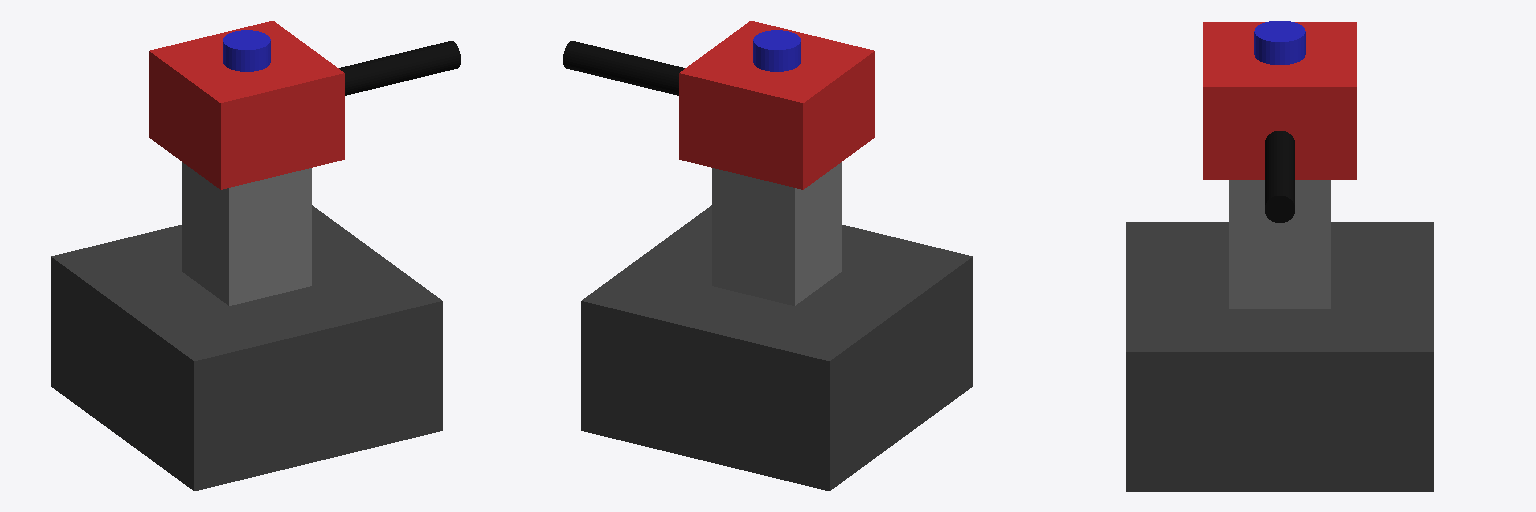
robot.urdf — sentry_robot:
<?xml version="1.0"?>
<robot name="sentry_robot">
  
  <!-- 底盘 600x600x300mm -->
  <link name="base_link">
    <visual>
      <origin xyz="0 0 0.15" rpy="0 0 0"/>
      <geometry>
        <box size="0.6 0.6 0.3"/>
      </geometry>
      <material name="dark_gray">
        <color rgba="0.3 0.3 0.3 1"/>
      </material>
    </visual>
    <collision>
      <origin xyz="0 0 0.15" rpy="0 0 0"/>
      <geometry>
        <box size="0.6 0.6 0.3"/>
      </geometry>
    </collision>
  </link>

  <!-- 云台支架 200x200x300mm -->
  <link name="turret_base">
    <visual>
      <origin xyz="0 0 0.15" rpy="0 0 0"/>
      <geometry>
        <box size="0.2 0.2 0.3"/>
      </geometry>
      <material name="gray">
        <color rgba="0.5 0.5 0.5 1"/>
      </material>
    </visual>
  </link>

  <joint name="base_to_turret" type="fixed">
    <parent link="base_link"/>
    <child link="turret_base"/>
    <origin xyz="0 0 0.3" rpy="0 0 0"/>
  </joint>

  <!-- 云台头部 300x300x200mm -->
  <link name="turret_head">
    <visual>
      <origin xyz="0 0 0.1" rpy="0 0 0"/>
      <geometry>
        <box size="0.3 0.3 0.2"/>
      </geometry>
      <material name="red">
        <color rgba="0.8 0.2 0.2 1"/>
      </material>
    </visual>
  </link>

  <joint name="turret_to_head" type="fixed">
    <parent link="turret_base"/>
    <child link="turret_head"/>
    <origin xyz="0 0 0.3" rpy="0 0 0"/>
  </joint>

  <!-- 枪管 -->
  <link name="barrel">
    <visual>
      <origin xyz="0.2 0 0" rpy="0 1.5708 0"/>
      <geometry>
        <cylinder radius="0.03" length="0.3"/>
      </geometry>
      <material name="black">
        <color rgba="0.1 0.1 0.1 1"/>
      </material>
    </visual>
  </link>

  <joint name="head_to_barrel" type="fixed">
    <parent link="turret_head"/>
    <child link="barrel"/>
    <origin xyz="0.15 0 0.1" rpy="0 0 0"/>
  </joint>

  <!-- 雷达 (顶部) -->
  <link name="lidar_link">
    <visual>
      <origin xyz="0 0 0.025" rpy="0 0 0"/>
      <geometry>
        <cylinder radius="0.05" length="0.05"/>
      </geometry>
      <material name="blue">
        <color rgba="0.2 0.2 0.8 1"/>
      </material>
    </visual>
  </link>

  <joint name="head_to_lidar" type="fixed">
    <parent link="turret_head"/>
    <child link="lidar_link"/>
    <origin xyz="0 0 0.2" rpy="0 0 0"/>
  </joint>

  <!-- 四个轮子 -->
  <link name="wheel_fl">
    <visual>
      <geometry>
        <cylinder radius="0.08" length="0.05"/>
      </geometry>
      <material name="black"/>
    </visual>
  </link>
  <joint name="base_to_wheel_fl" type="fixed">
    <parent link="base_link"/>
    <child link="wheel_fl"/>
    <origin xyz="0.22 0.25 0.08" rpy="1.5708 0 0"/>
  </joint>

  <link name="wheel_fr">
    <visual>
      <geometry>
        <cylinder radius="0.08" length="0.05"/>
      </geometry>
      <material name="black"/>
    </visual>
  </link>
  <joint name="base_to_wheel_fr" type="fixed">
    <parent link="base_link"/>
    <child link="wheel_fr"/>
    <origin xyz="0.22 -0.25 0.08" rpy="1.5708 0 0"/>
  </joint>

  <link name="wheel_rl">
    <visual>
      <geometry>
        <cylinder radius="0.08" length="0.05"/>
      </geometry>
      <material name="black"/>
    </visual>
  </link>
  <joint name="base_to_wheel_rl" type="fixed">
    <parent link="base_link"/>
    <child link="wheel_rl"/>
    <origin xyz="-0.22 0.25 0.08" rpy="1.5708 0 0"/>
  </joint>

  <link name="wheel_rr">
    <visual>
      <geometry>
        <cylinder radius="0.08" length="0.05"/>
      </geometry>
      <material name="black"/>
    </visual>
  </link>
  <joint name="base_to_wheel_rr" type="fixed">
    <parent link="base_link"/>
    <child link="wheel_rr"/>
    <origin xyz="-0.22 -0.25 0.08" rpy="1.5708 0 0"/>
  </joint>

</robot>

--- Facts derived from the render (not from the file) ---
Views: 3 orthographic renders of the robot side by side, from view 1: azimuth 30°, elevation 25°; view 2: azimuth 150°, elevation 25°; view 3: azimuth 270°, elevation 25°.
Robot: sentry_robot — 9 links, 8 joints (8 fixed); root link base_link; default pose: all joints at 0.
Links seen in each view (by area): view 1: base_link, turret_head, turret_base, barrel, lidar_link; view 2: base_link, turret_head, turret_base, barrel, lidar_link; view 3: base_link, turret_head, turret_base, barrel, lidar_link.
Link boxes in pixels (x1=…): base_link: x1=51, y1=205, x2=442, y2=490; turret_head: x1=149, y1=21, x2=344, y2=189; turret_base: x1=182, y1=162, x2=311, y2=305; barrel: x1=339, y1=41, x2=460, y2=95; lidar_link: x1=223, y1=30, x2=270, y2=71; base_link: x1=581, y1=205, x2=972, y2=490; turret_head: x1=679, y1=21, x2=874, y2=189; turret_base: x1=712, y1=162, x2=841, y2=305; barrel: x1=563, y1=41, x2=684, y2=95; lidar_link: x1=753, y1=30, x2=800, y2=71; base_link: x1=1126, y1=222, x2=1433, y2=491; turret_head: x1=1203, y1=22, x2=1356, y2=179; turret_base: x1=1229, y1=180, x2=1330, y2=308; barrel: x1=1265, y1=131, x2=1294, y2=222; lidar_link: x1=1254, y1=21, x2=1305, y2=64.
Bounding box of the posed robot: 0.8 × 0.6 × 0.85 m (x, y, z).
Geometry: primitives only (box / cylinder / sphere), no mesh files.
